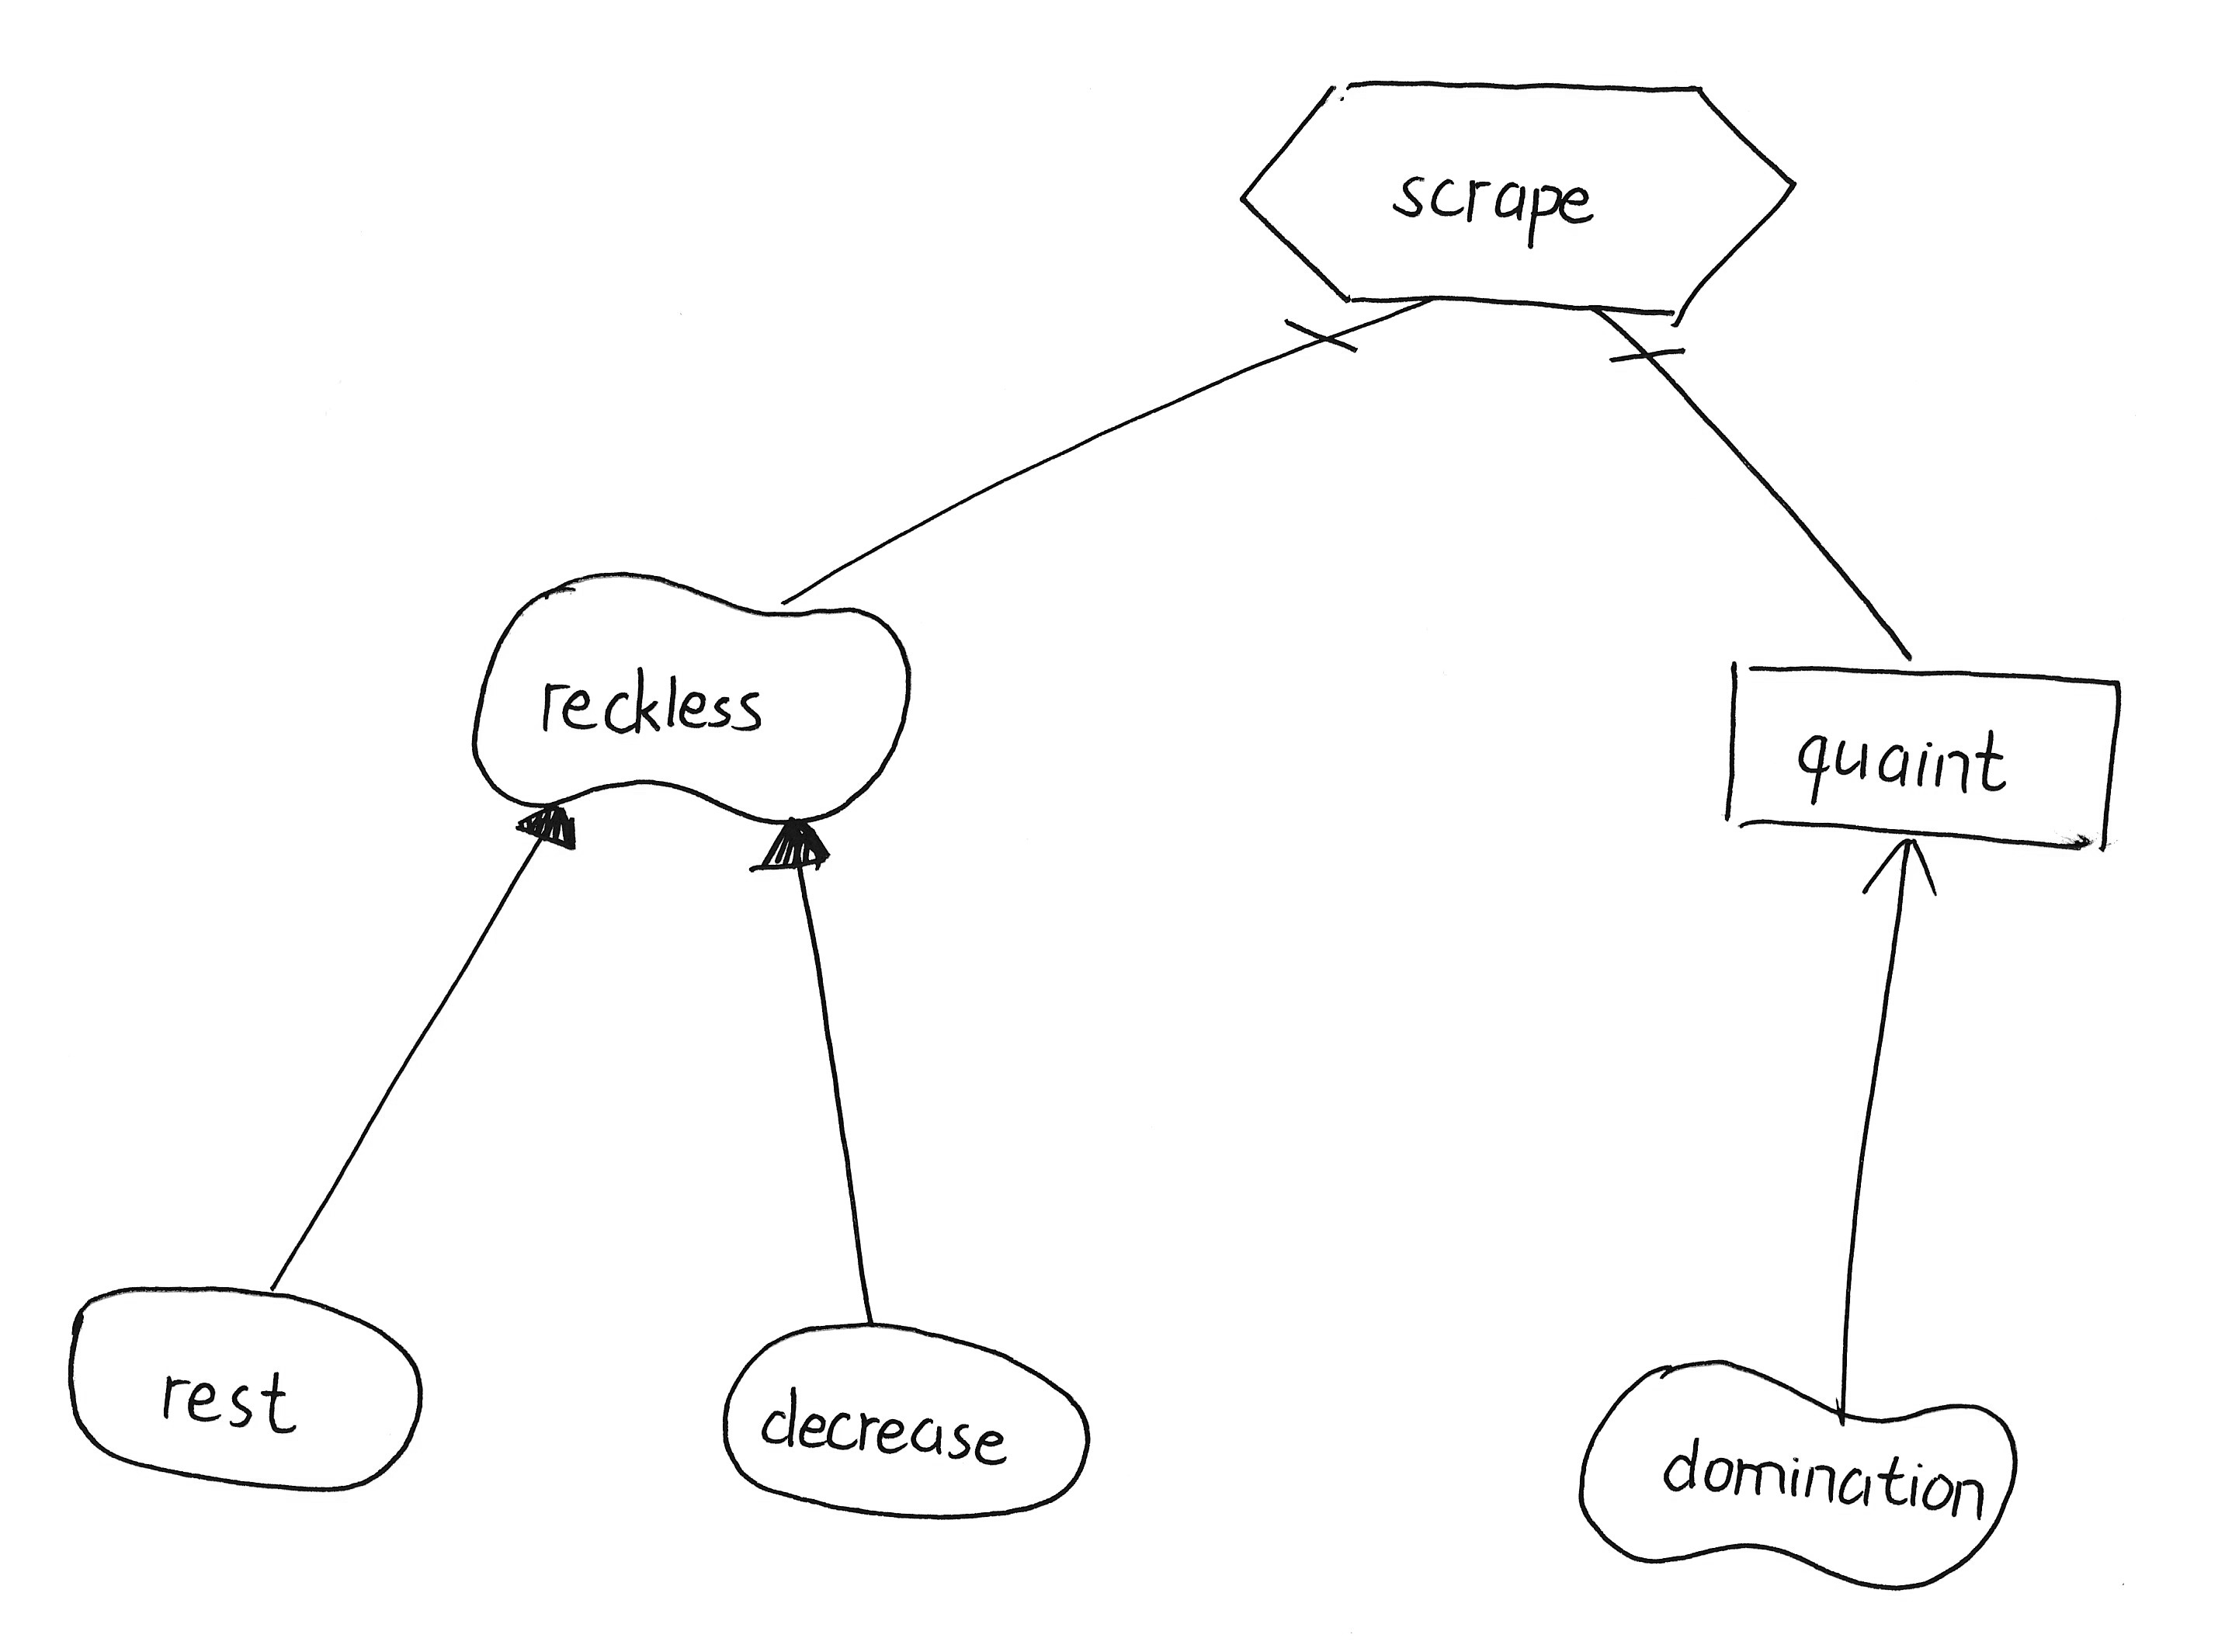and: (1262, 298, 1409, 382), (1572, 311, 1729, 389)
arrow: (1843, 826, 1949, 914)
goal: (1564, 1338, 2039, 1603), (47, 1260, 448, 1501), (699, 1308, 1107, 1534)
or: (739, 812, 842, 899), (502, 791, 597, 859)
quality: (456, 559, 927, 836)
resource: (1690, 639, 2152, 866)
task: (1222, 54, 1807, 337)
